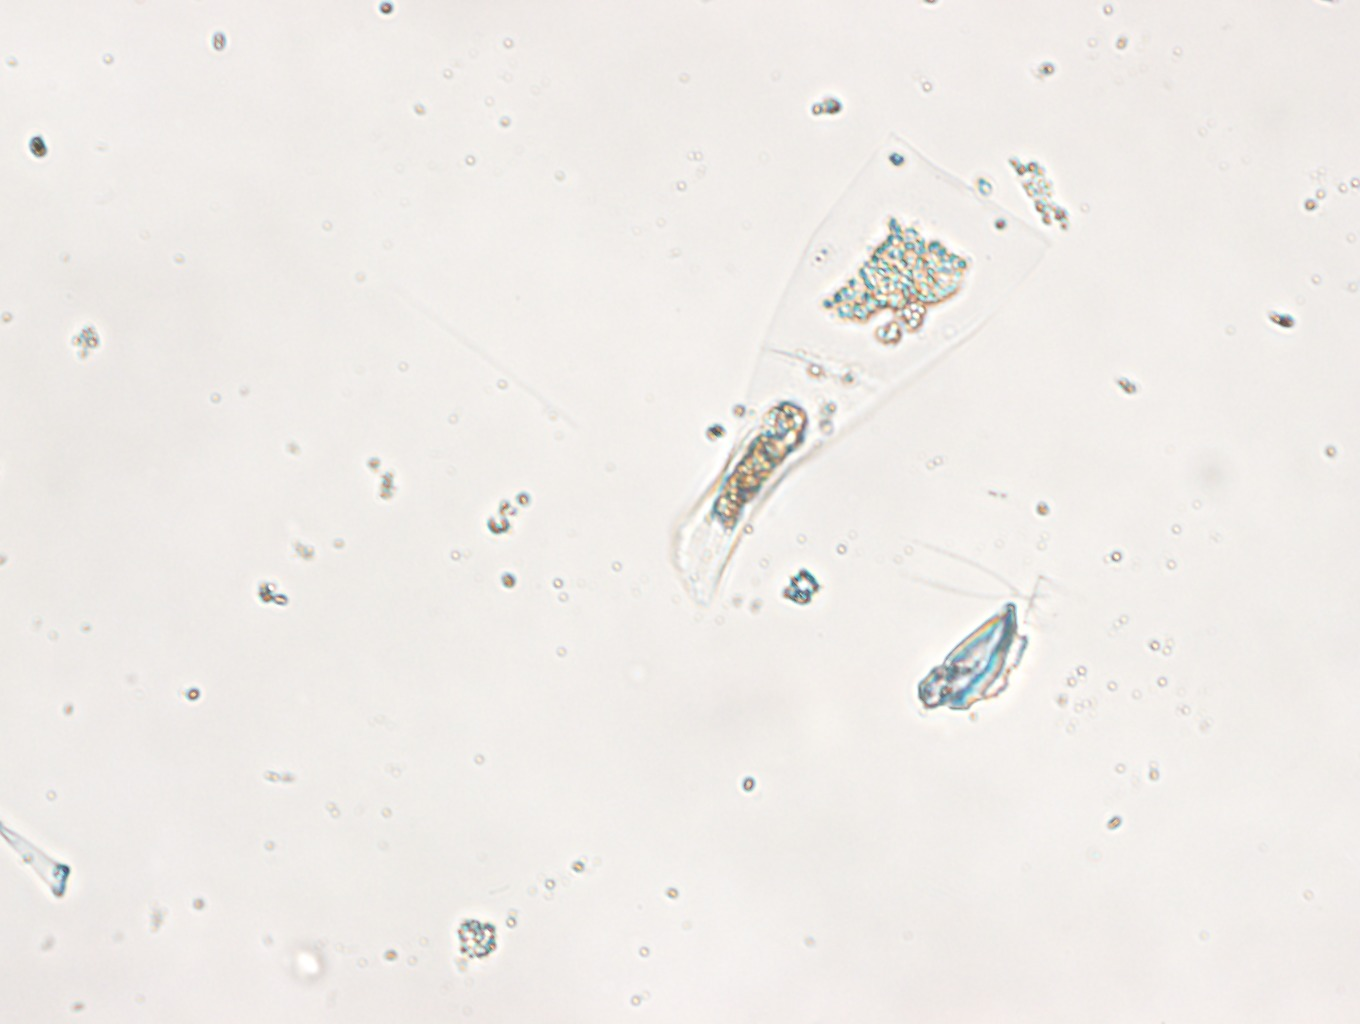helicotheca: (668, 134, 1051, 609)
